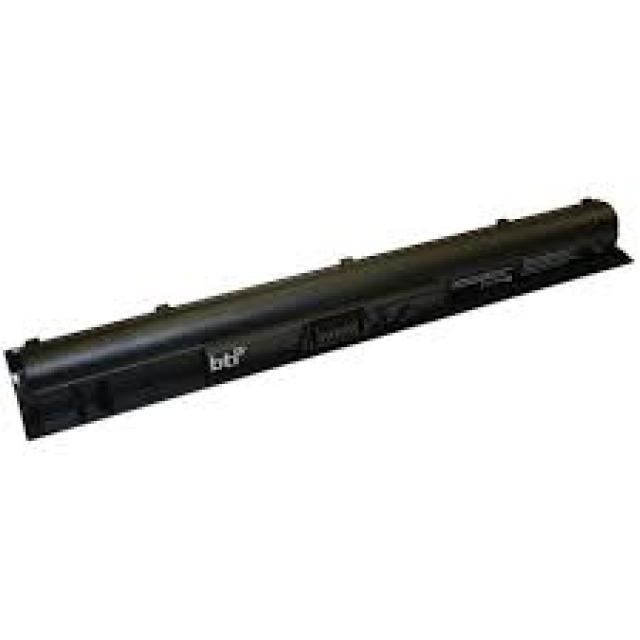Battery: (6, 171, 639, 471)
